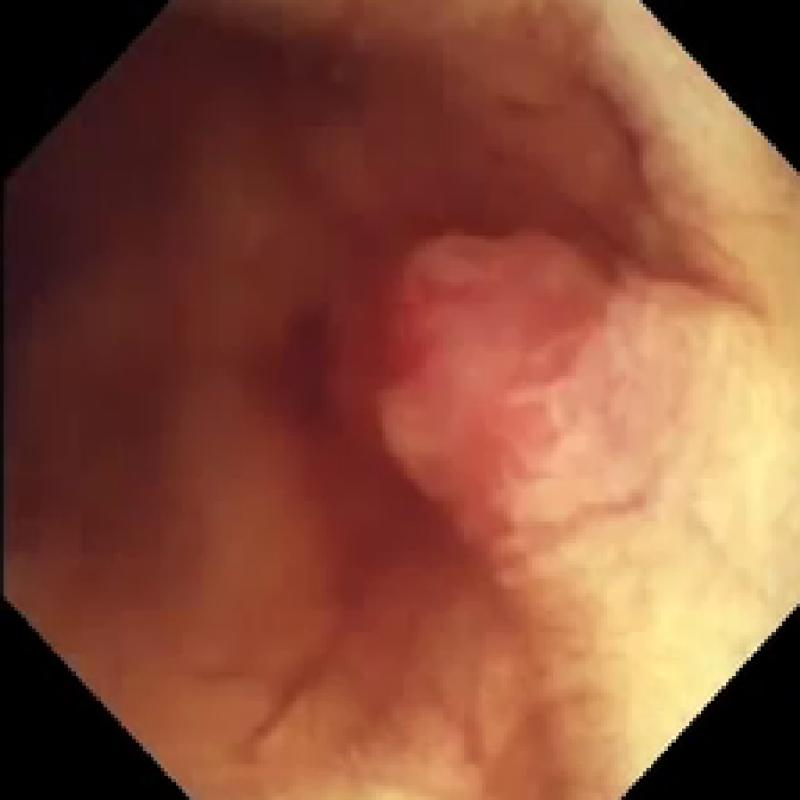bleeding: (239, 197, 622, 607)
